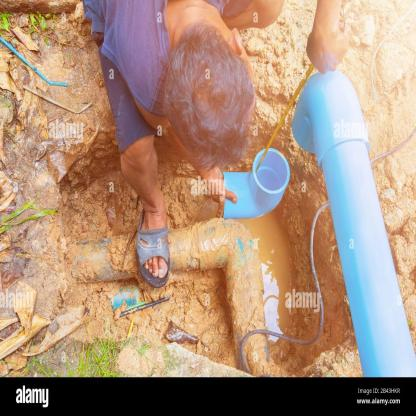PVC: (290, 70, 416, 377), (170, 216, 249, 368), (222, 149, 290, 218), (60, 232, 142, 283), (1, 41, 67, 87), (109, 281, 145, 316)
